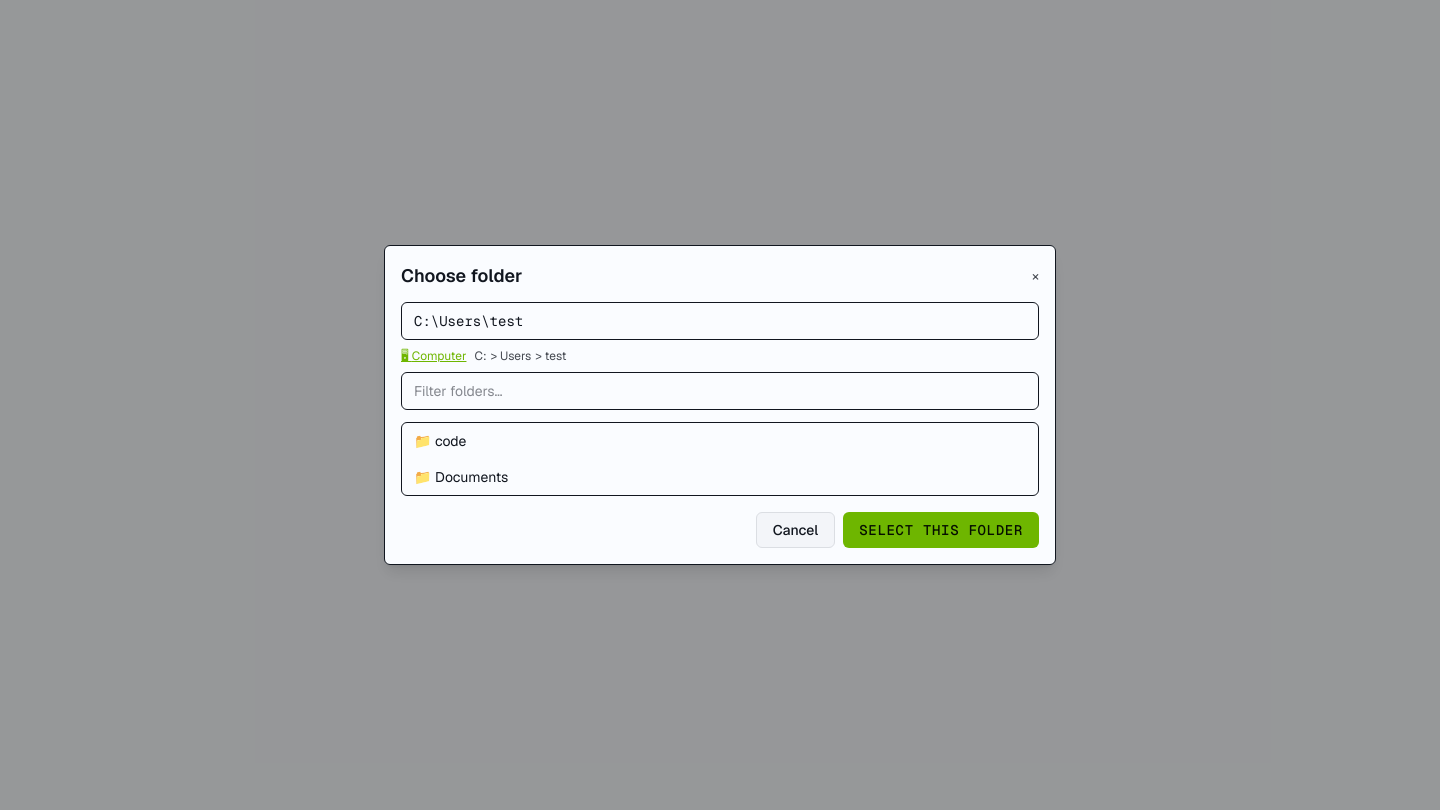
Scenario: DirectoryPicker › Computer button opens drives view
This screenshot has width=1440, height=810.
Click the button "🖥 Computer" at {"x": 434, "y": 356}, box x1=401 y1=348 x2=466 y2=364
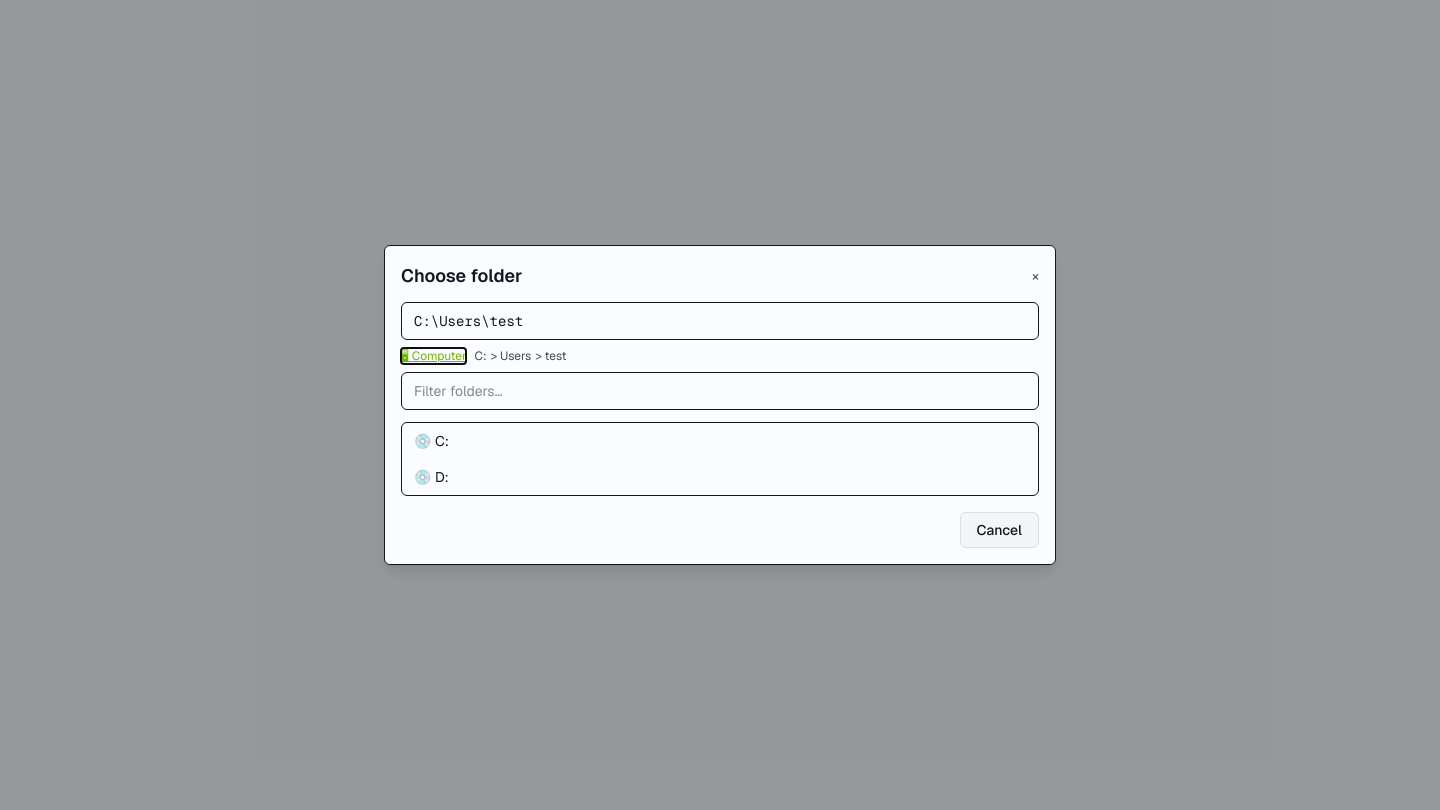
Check: the button "💿 C:" is shown, box x1=402 y1=423 x2=1038 y2=459
Check: the button "💿 D:" is shown, box x1=402 y1=459 x2=1038 y2=495
